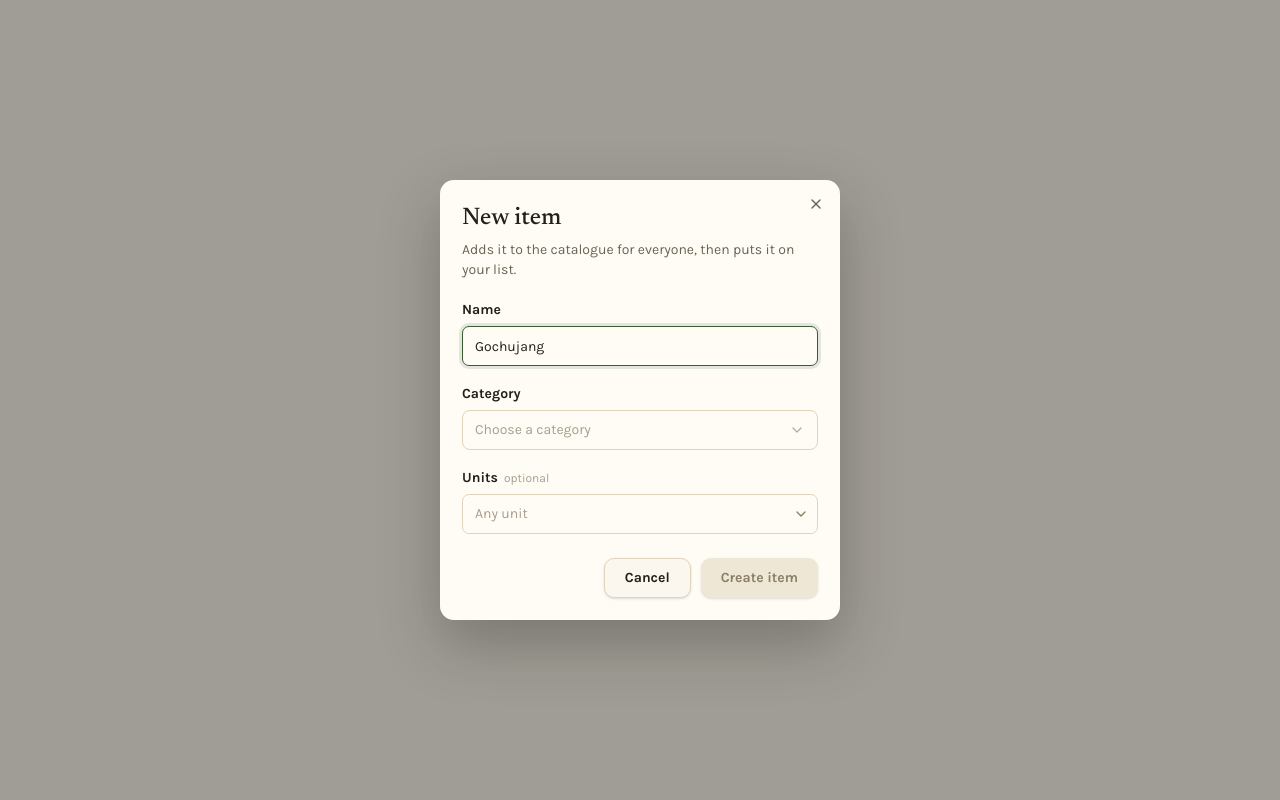
Test: CreateItemDialog › offers only ingredient categories when asked to
The image size is (1280, 800).
Click the dropdown labelled "category". click: x=533, y=430
box: [462,410,818,450]
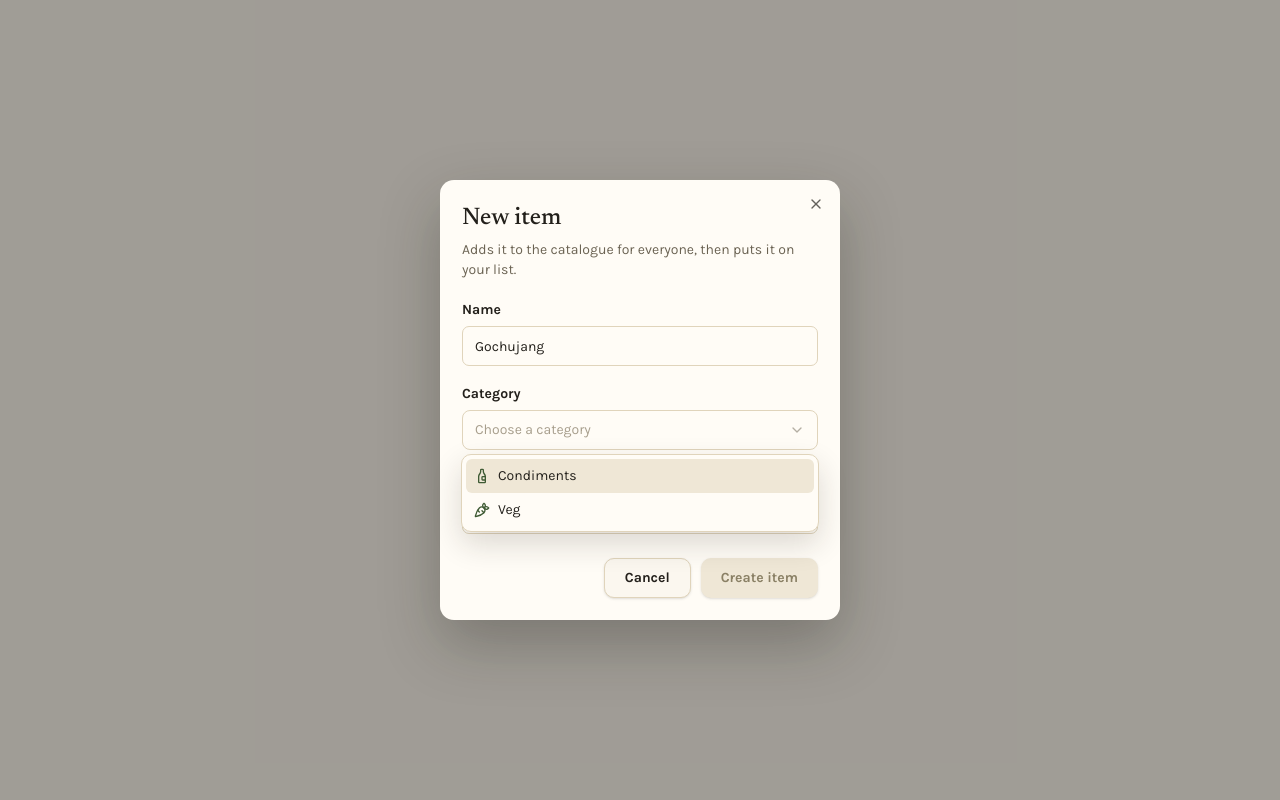
Expected: the options read "Condiments", "Veg", in this order, [466,459,814,493]; [474,501,520,518]
